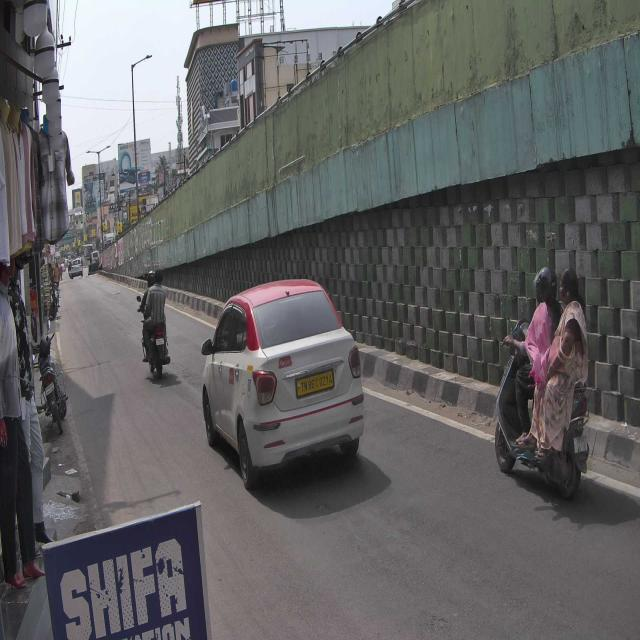double_rider: (494, 264, 591, 502)
